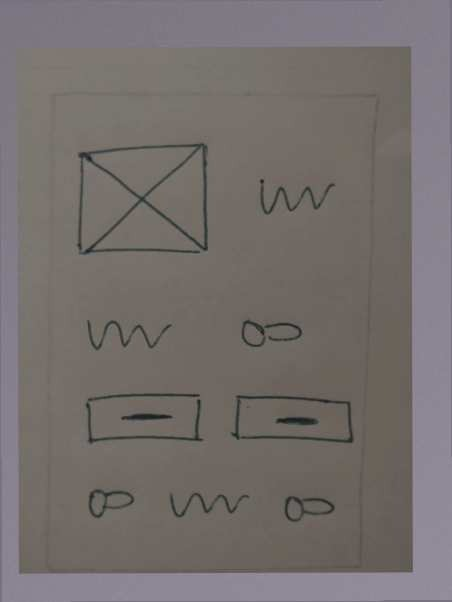button: (83, 384, 206, 452), (227, 385, 356, 449)
image: (73, 138, 215, 266)
switch: (233, 306, 311, 358), (267, 480, 345, 532), (75, 476, 153, 528)
text: (79, 308, 179, 361), (250, 168, 339, 222), (161, 481, 253, 529)
